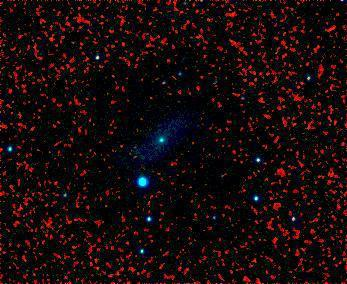star: (243, 156, 273, 186)
